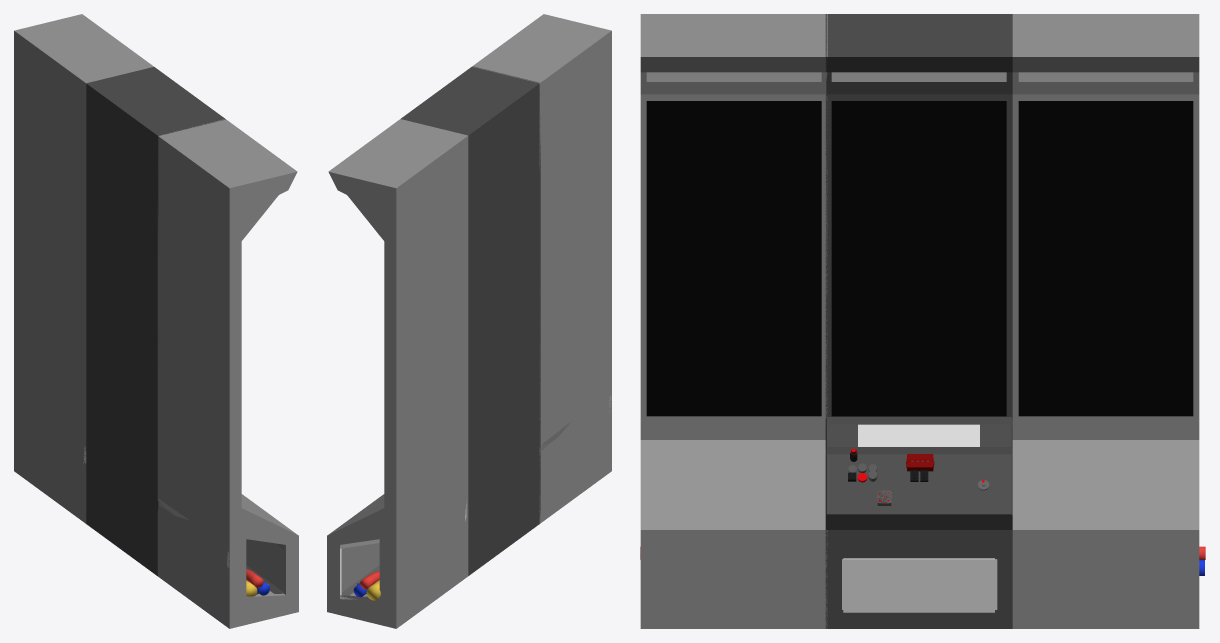
File: SciFi_walls_(M4tt30).fbx
The picture shows the model from 3 angles, left to right: view 1: azimuth 30°, elevation 25°; view 2: azimuth 150°, elevation 25°; view 3: azimuth 270°, elevation 25°; orthographic projection. The views are drawn at different scales.
Visible parts, largest first — view 1: Wall.001; view 2: Wall.001; view 3: Wall.001.
Part boxes in pixels (<box>): Wall.001: <box>14,14,298,628</box>; Wall.001: <box>327,14,611,628</box>; Wall.001: <box>640,14,1205,628</box>.
Size of the model in its own units: 44.78 by 231 by 206.
Materials: 4 (1 with a texture image).
